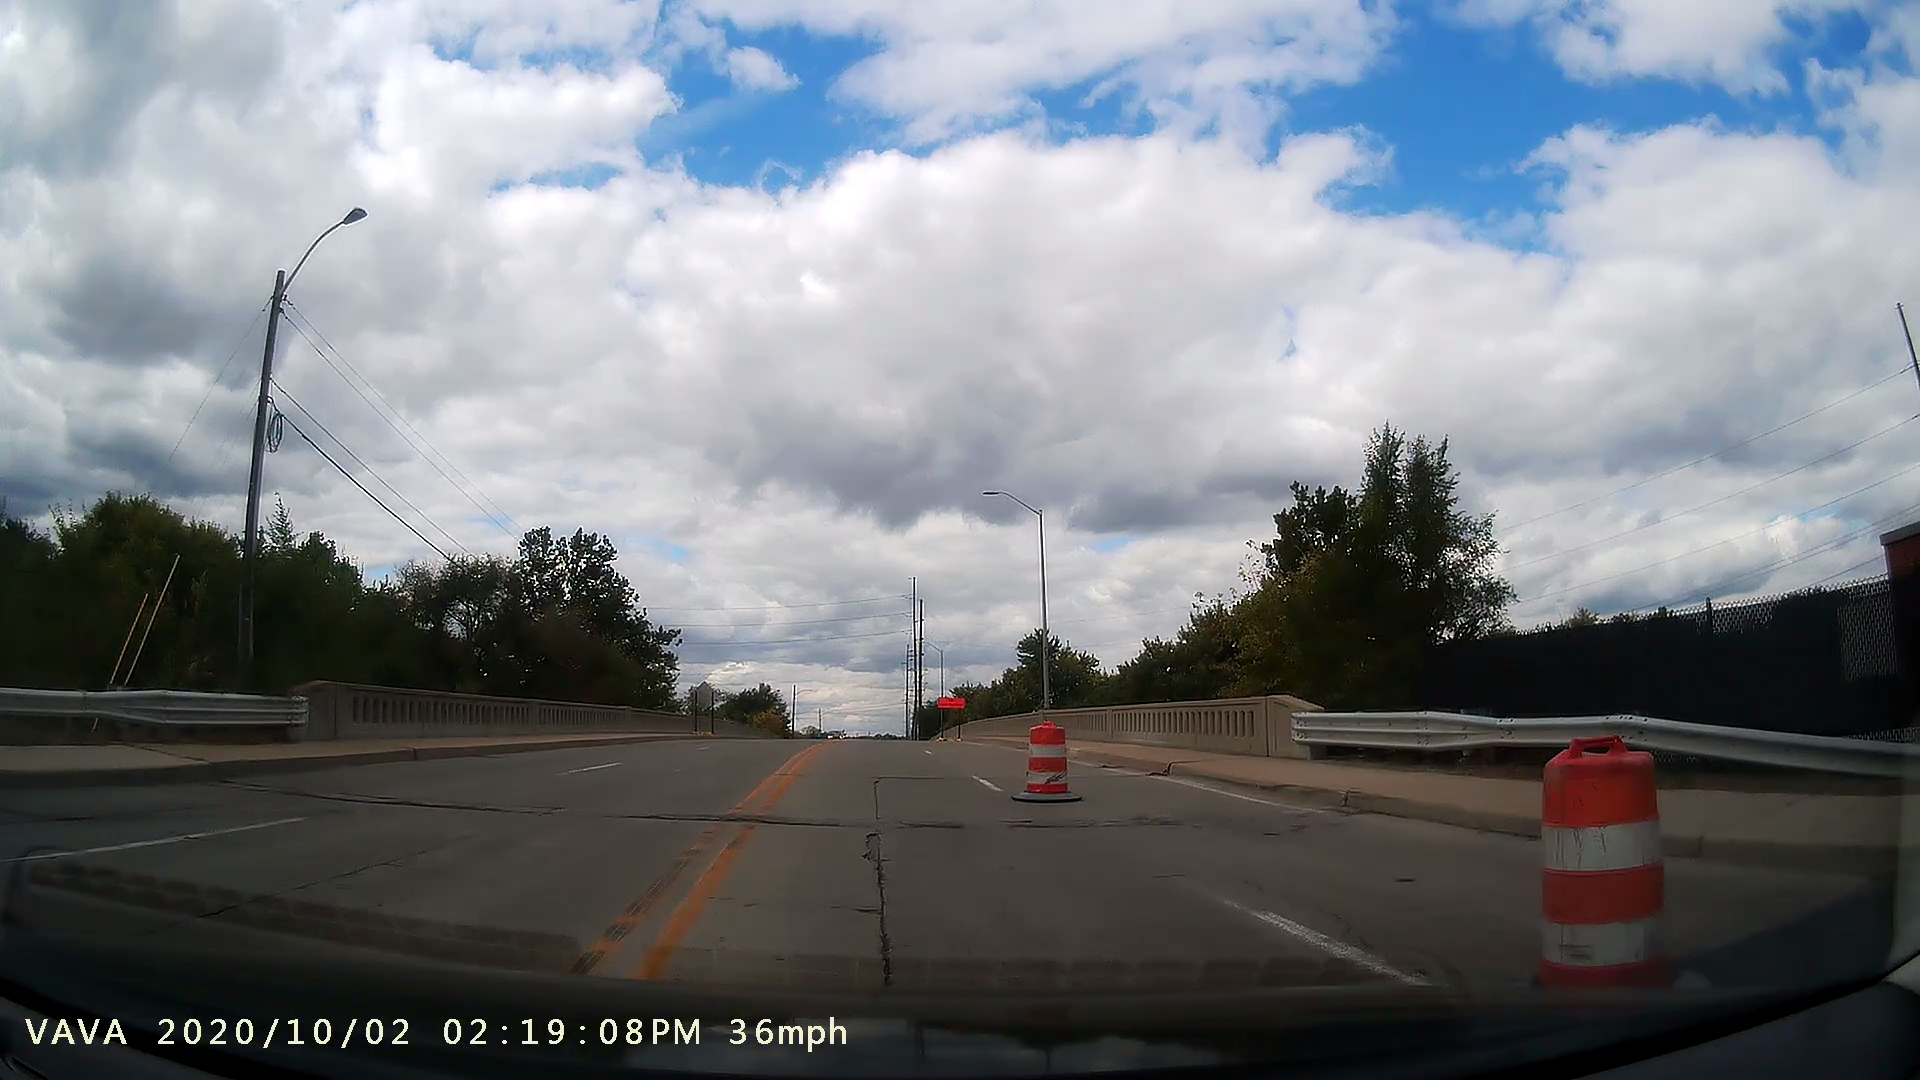const_barrel: (1473, 715, 1685, 996), (989, 694, 1098, 806)
